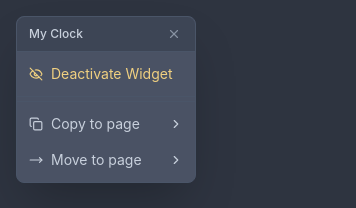
WidgetContextMenu › shows other pages in copy submenu on hover
The width and height of the screenshot is (356, 208).
Step 1. Hover over the text "Copy to page" → (106, 124), box [29,115,183,132]
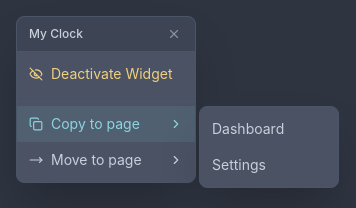
Expected: the button "Dashboard" is shown, [200,111,338,147]
Expected: the button "Settings" is shown, [200,147,338,183]
